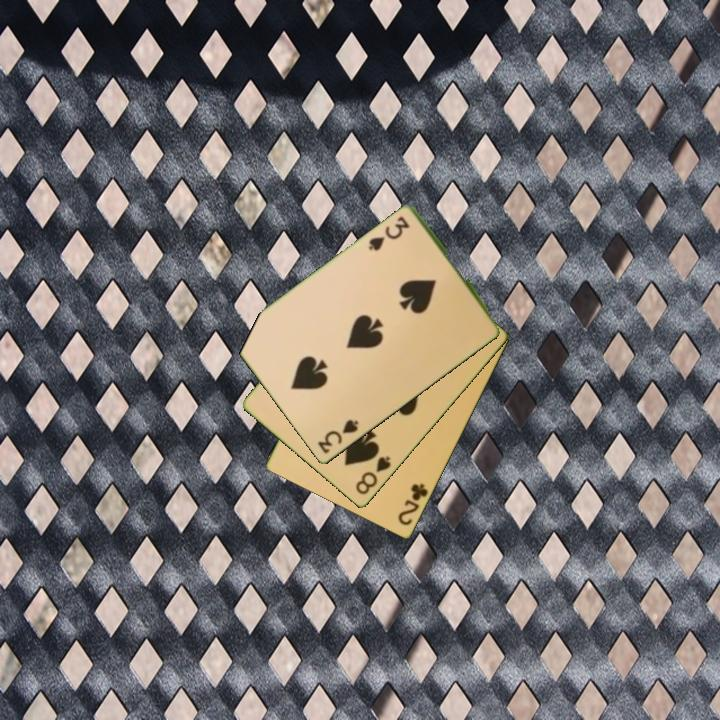2c: (395, 480, 431, 529)
3s: (365, 213, 413, 254), (314, 416, 361, 457)
8s: (352, 453, 394, 498)
